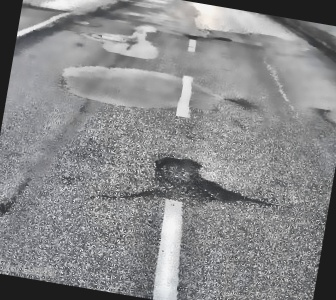pothole: (145, 150, 245, 211), (185, 30, 203, 41), (214, 34, 234, 42)
